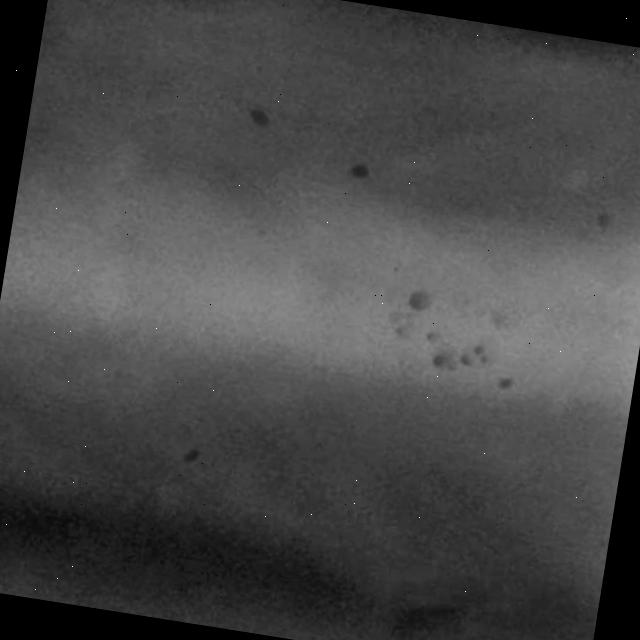Pore: (374, 280, 534, 404), (579, 197, 631, 236), (175, 432, 209, 478), (339, 148, 382, 183), (244, 100, 284, 128)
